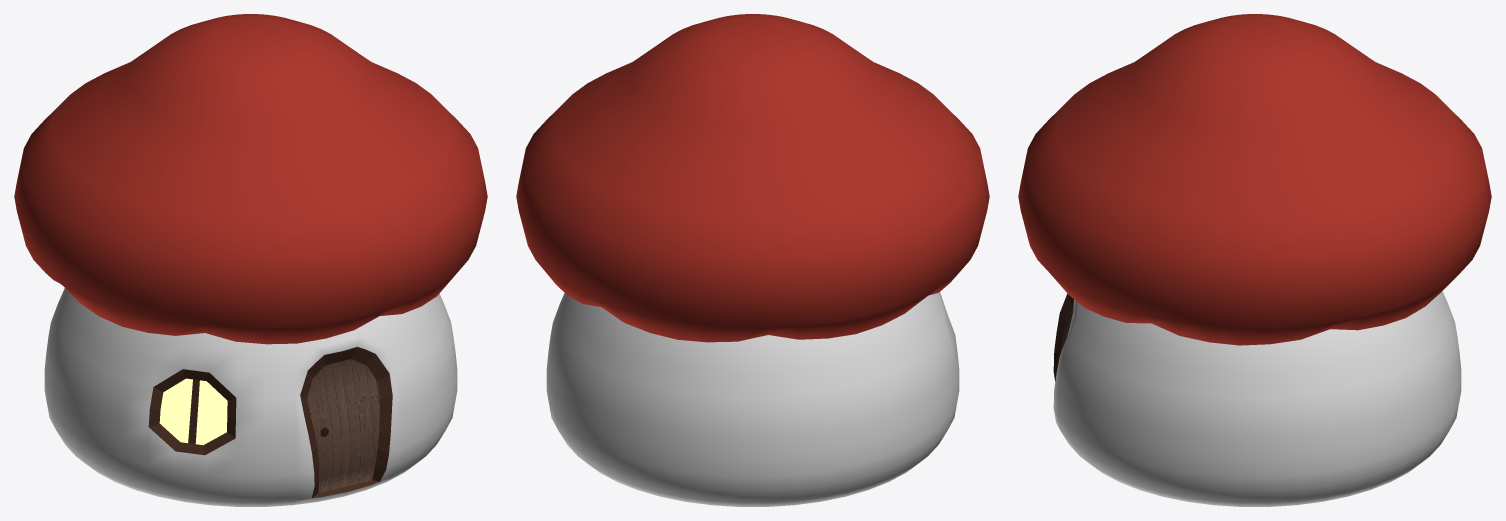
The model's file is redMushroomHouse.glb.
3 renders of one model, left to right at view 1: azimuth 30°, elevation 25°; view 2: azimuth 150°, elevation 25°; view 3: azimuth 270°, elevation 25°, orthographic.
Parts seen in each view (by area): view 1: RedMushroomHouse; view 2: RedMushroomHouse; view 3: RedMushroomHouse.
Boxes of the visible parts, x1,y1,x2,y2 form: RedMushroomHouse: [14, 14, 487, 506]; RedMushroomHouse: [516, 14, 989, 506]; RedMushroomHouse: [1018, 14, 1491, 506].
Size of what is drawn, in the model's own units: 4.68 by 4.33 by 4.69.
Materials: 3 (2 with a texture image).
